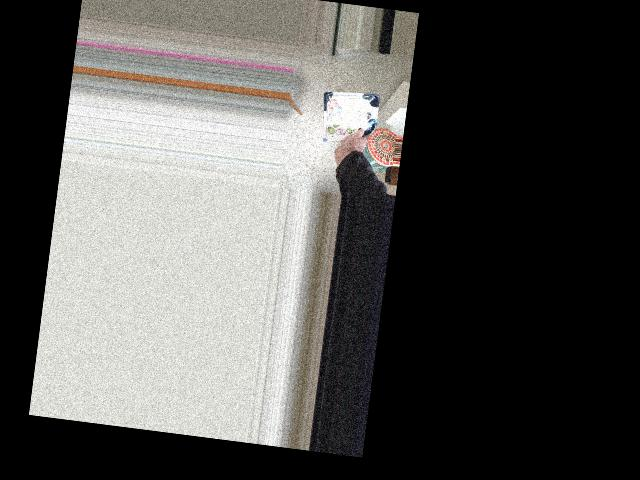cheese: (317, 98, 380, 166)
